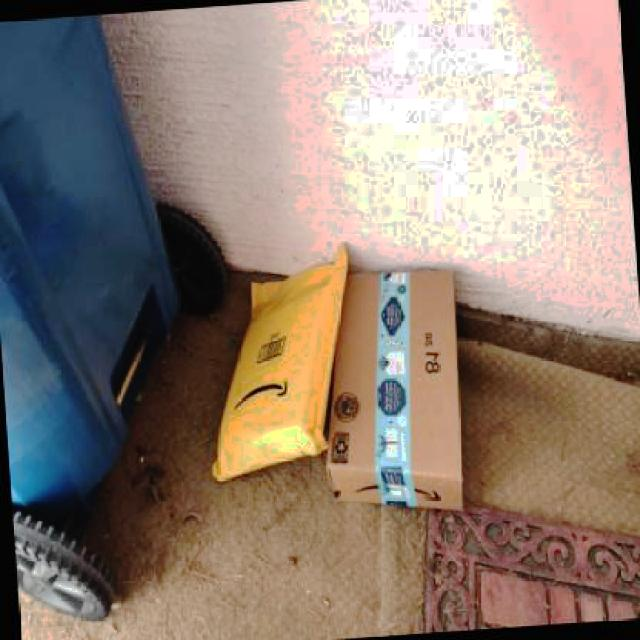Box: (312, 265, 471, 521), (197, 242, 363, 483)
